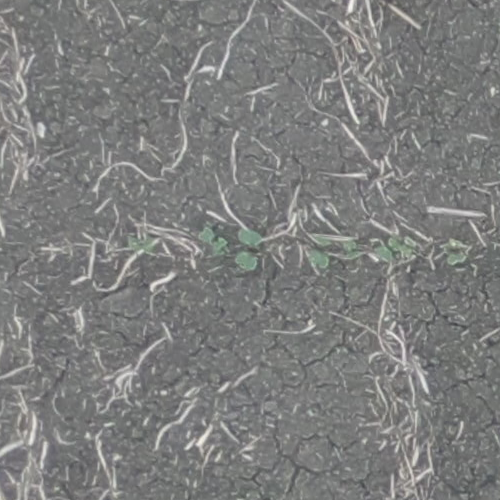plant: (237, 232, 264, 271), (303, 234, 333, 267), (200, 227, 229, 253), (442, 240, 471, 264)
